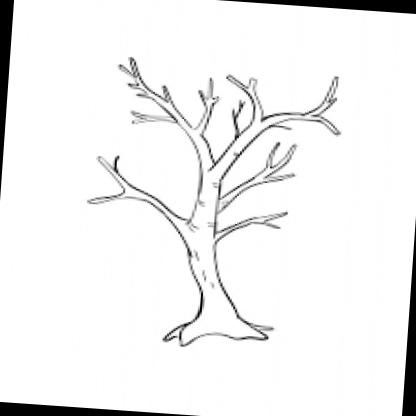branch_cut: (84, 52, 346, 250)
root_only: (160, 312, 276, 356)
trunk_reflex: (180, 245, 248, 320)
